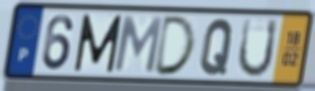6: (42, 13, 75, 72)
D: (151, 14, 198, 77)
M: (111, 15, 165, 76), (72, 12, 125, 74)
Q: (198, 17, 236, 77)
U: (235, 16, 280, 80)
